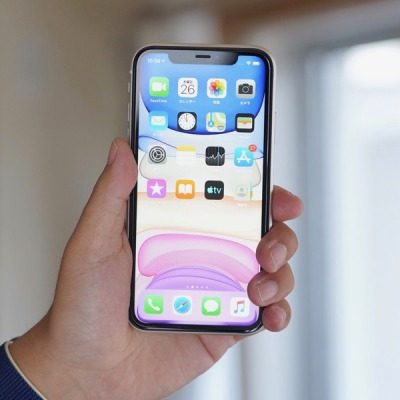iphone: (126, 43, 279, 336)
